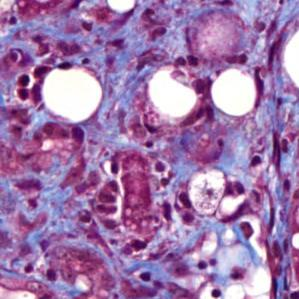steatosis: (46, 68, 100, 128), (211, 68, 264, 116)
